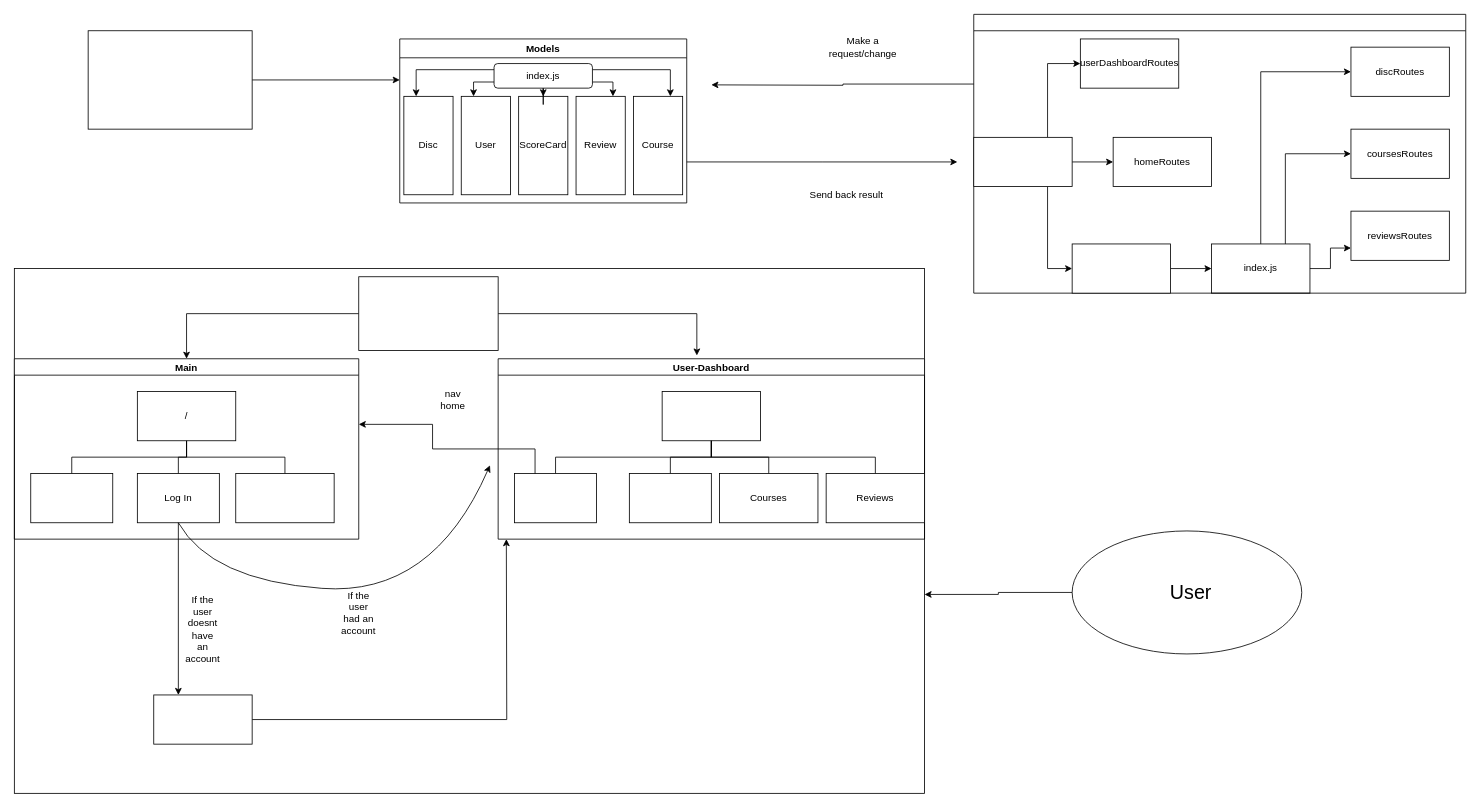
Some shapes in this 1480 by 808 pixel diagram are drawn without their labels. Each missing label, with the centre of its shape:
"/user" goes at [711,416].
"api(folder)" goes at [1121,268].
"Create account" goes at [202,719].
"Discs" goes at [670,498].
"Home" goes at [555,498].
"Home Page" goes at [71,498].
"index" goes at [1022,162].
"Log Out" goes at [284,498].
"MySQL" goes at [169,79].
"Views" goes at [428,313].
